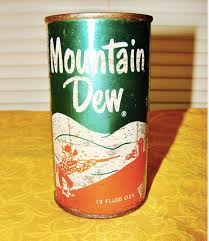can: (42, 9, 155, 221)
